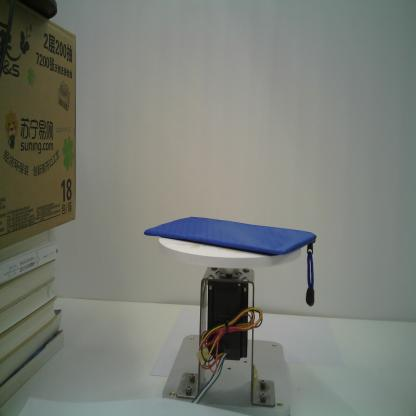Stationery: (144, 216, 317, 307)
